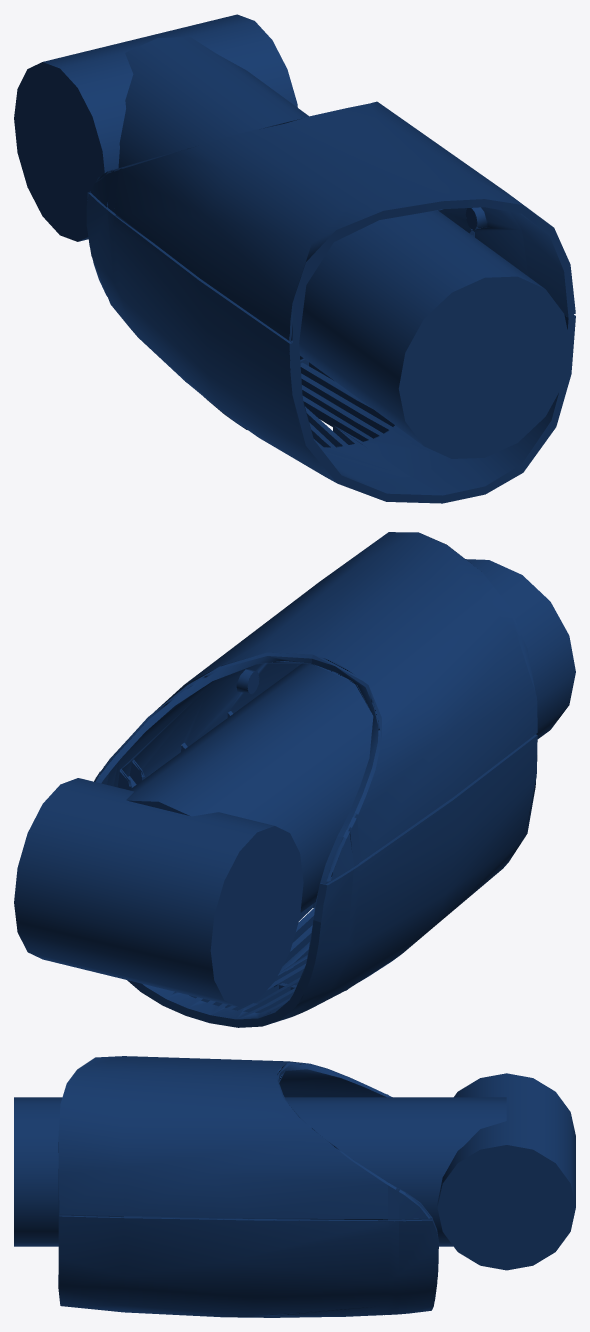
Rendered from icub_l_thigh.dae.
The picture shows the model from 3 angles, top to bottom: view 1: azimuth 30°, elevation 25°; view 2: azimuth 150°, elevation 25°; view 3: azimuth 270°, elevation 25°; orthographic projection. The views are drawn at different scales.
Visible parts, largest first — view 1: l_upperleg_mesh, l_thigh_cyl1_mesh, l_thigh_cyl2_mesh; view 2: l_upperleg_mesh, l_thigh_cyl2_mesh, l_thigh_cyl1_mesh; view 3: l_upperleg_mesh, l_thigh_cyl2_mesh, l_thigh_cyl1_mesh.
Part boxes in pixels (left/top/right/bottom): l_upperleg_mesh: left=86, top=101, right=575, bottom=503; l_thigh_cyl1_mesh: left=118, top=37, right=570, bottom=458; l_thigh_cyl2_mesh: left=14, top=14, right=297, bottom=241; l_upperleg_mesh: left=94, top=532, right=537, bottom=1027; l_thigh_cyl2_mesh: left=14, top=778, right=303, bottom=1007; l_thigh_cyl1_mesh: left=126, top=559, right=575, bottom=912; l_upperleg_mesh: left=58, top=1056, right=438, bottom=1317; l_thigh_cyl2_mesh: left=437, top=1073, right=575, bottom=1270; l_thigh_cyl1_mesh: left=14, top=1097, right=506, bottom=1246.
Bounding box in the file's own units: 0.1029 × 0.1178 × 0.2555.
